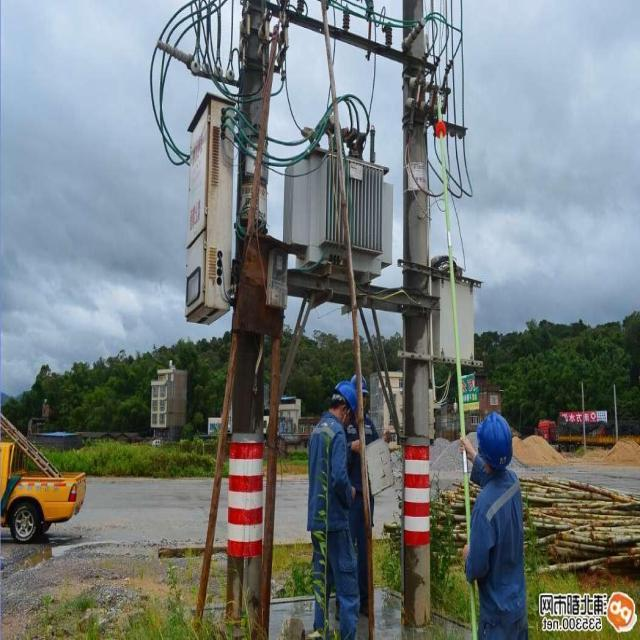helmet: (474, 405, 520, 465), (331, 376, 364, 416)
jacket: (467, 468, 529, 616)
